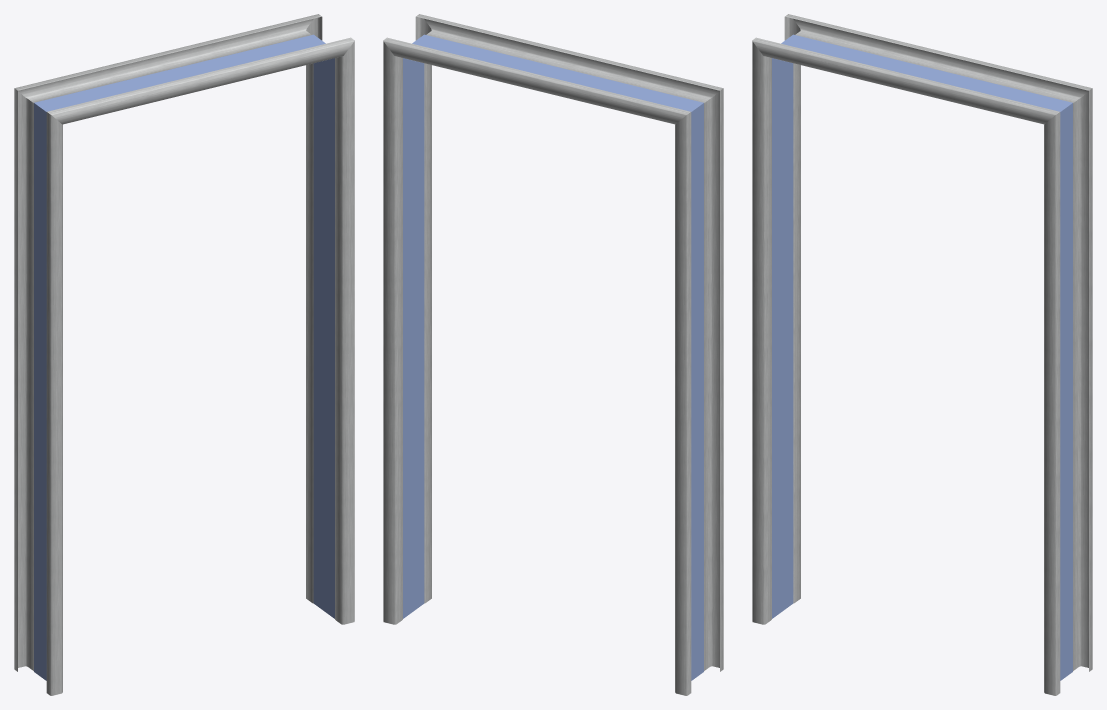
File: OR_DoorFrame.fbx
The picture shows the model from 3 angles, left to right: view 1: azimuth 30°, elevation 25°; view 2: azimuth 150°, elevation 25°; view 3: azimuth 330°, elevation 25°; orthographic projection.
Visible parts, largest first — view 1: OR_DoorFrame; view 2: OR_DoorFrame; view 3: OR_DoorFrame.
Part boxes in pixels (left/top/right/bottom): OR_DoorFrame: left=14, top=14, right=354, bottom=695; OR_DoorFrame: left=383, top=14, right=723, bottom=695; OR_DoorFrame: left=752, top=14, right=1092, bottom=695.
Bounding box in the file's own units: 119 × 217 × 25.1.
